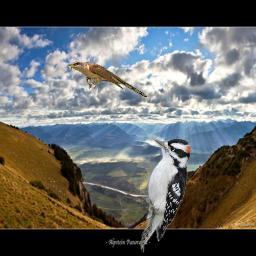Cuckoo: (66, 61, 148, 97)
Woodpecker: (140, 133, 196, 253)
